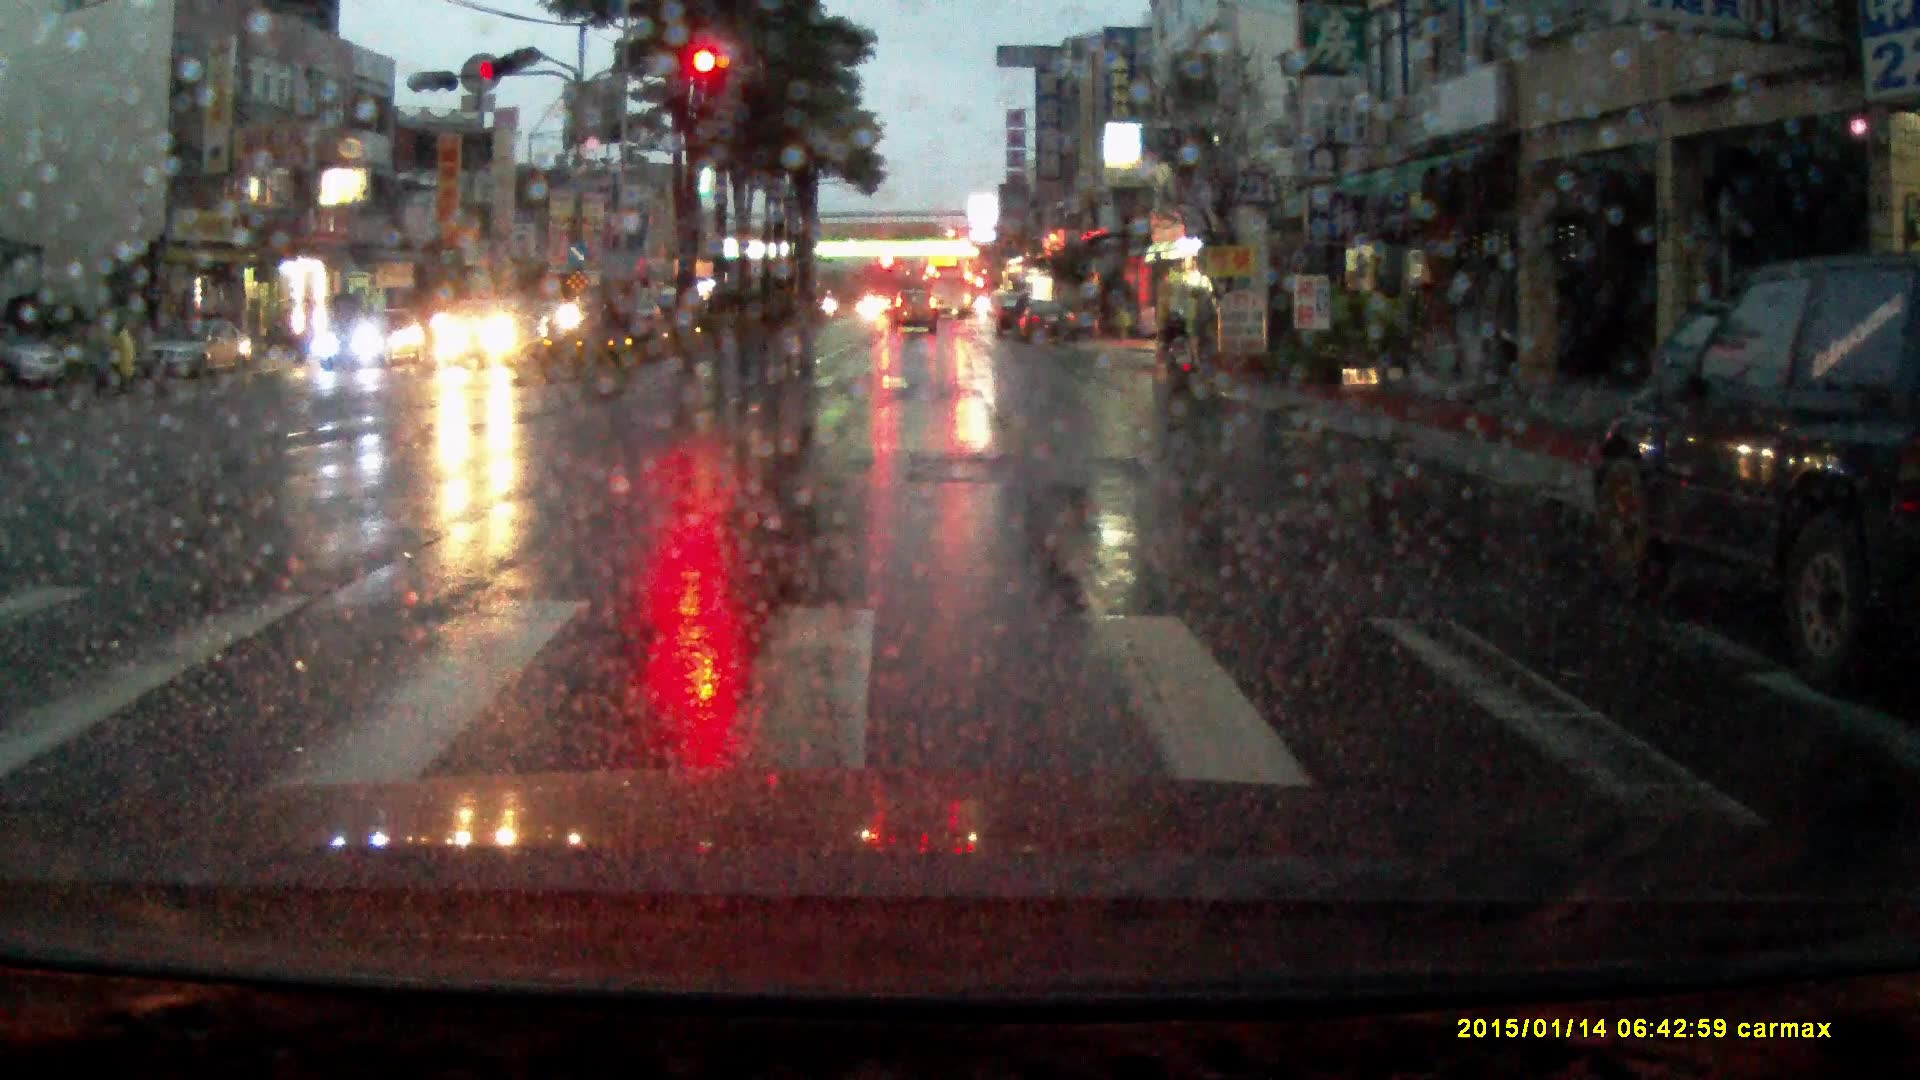rider: (85, 307, 155, 396)
vehicle: (1582, 248, 1920, 683), (438, 293, 546, 365), (317, 303, 430, 372), (140, 314, 253, 378), (535, 273, 649, 332), (1, 331, 69, 389), (1017, 300, 1079, 342), (929, 264, 969, 319), (891, 288, 938, 336), (991, 292, 1032, 338), (861, 291, 896, 319)
